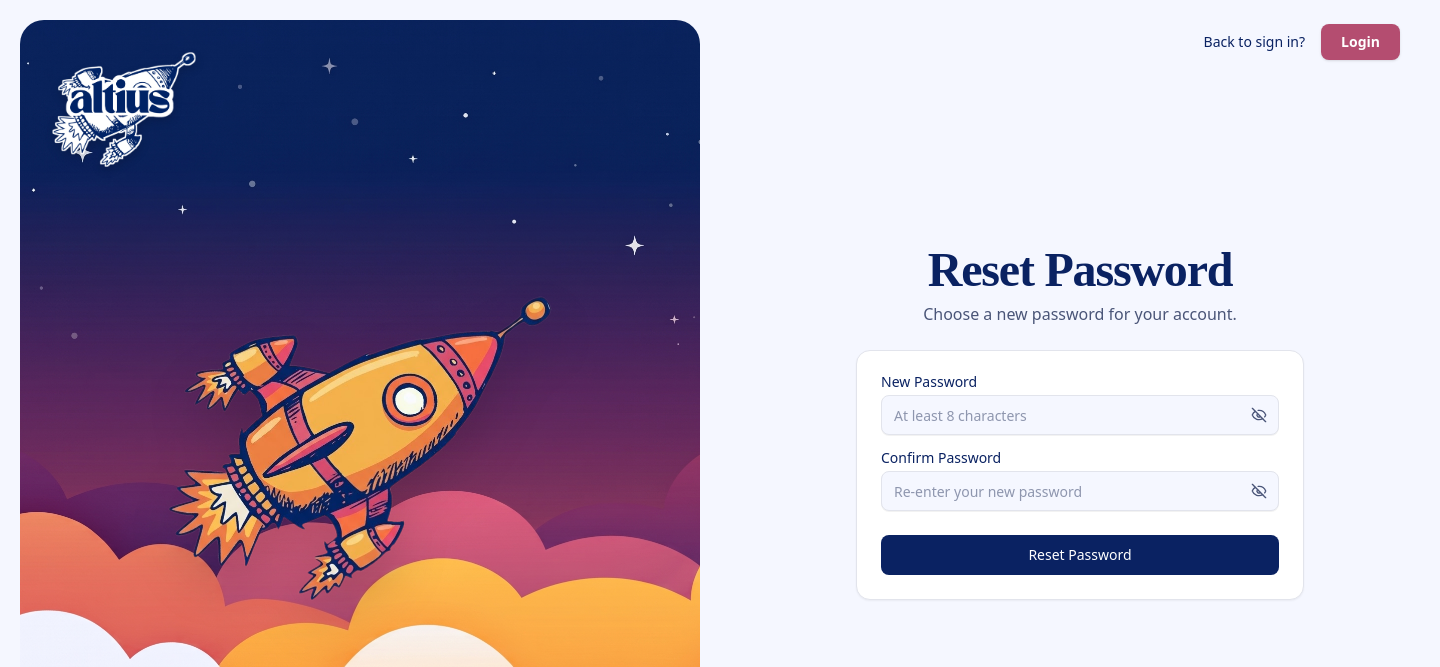
ForgotPasswordPage & ResetPasswordPage › validates password inputs, submits POST /auth/reset-password, and handles API errors
Type "short" into the password field labelled "New Password" at (1080, 415), box [881,395,1279,435]
Click the button "Reset Password" at (1080, 555), box [881,535,1279,575]
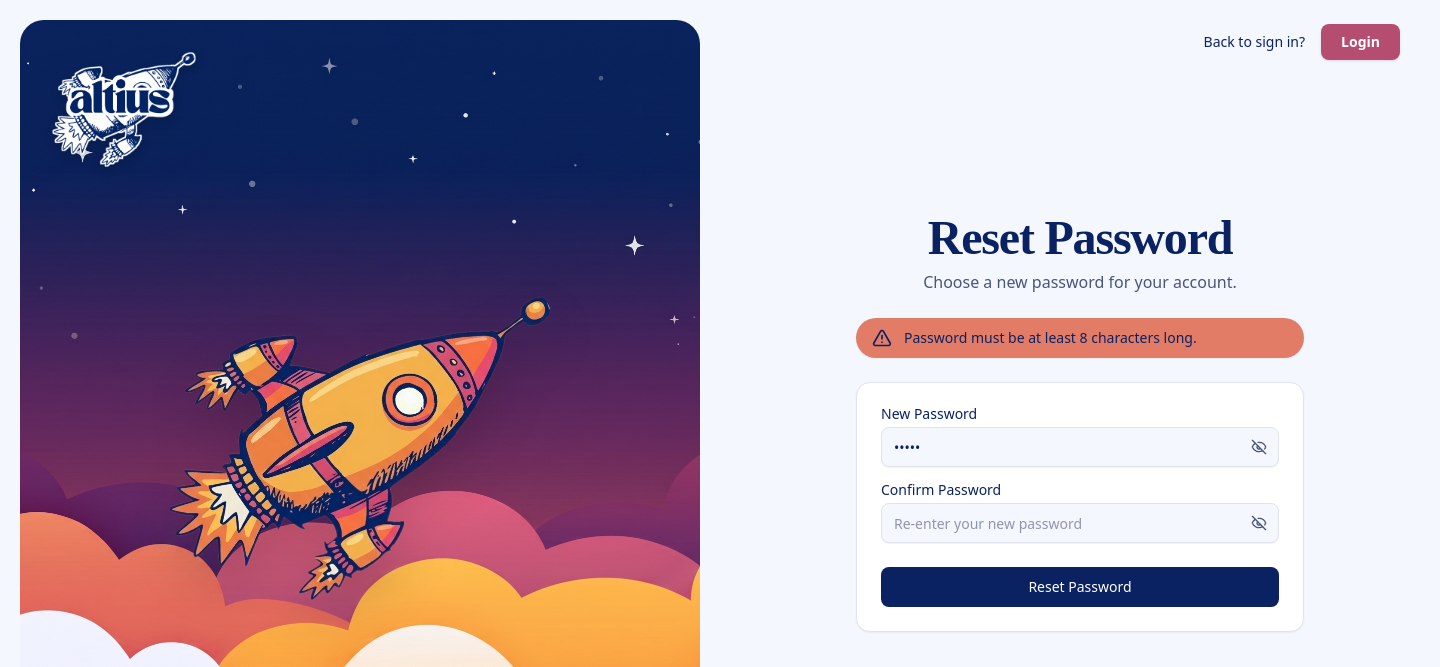
Now the text "Password must be at least 8 characters long." is shown, box [904,328,1197,348]
Type "NewPassword456!" into the password field labelled "New Password" at (1080, 447), box [881,427,1279,467]
Type "Mismatch456!" into the password field labelled "Confirm Password" at (1080, 523), box [881,503,1279,543]
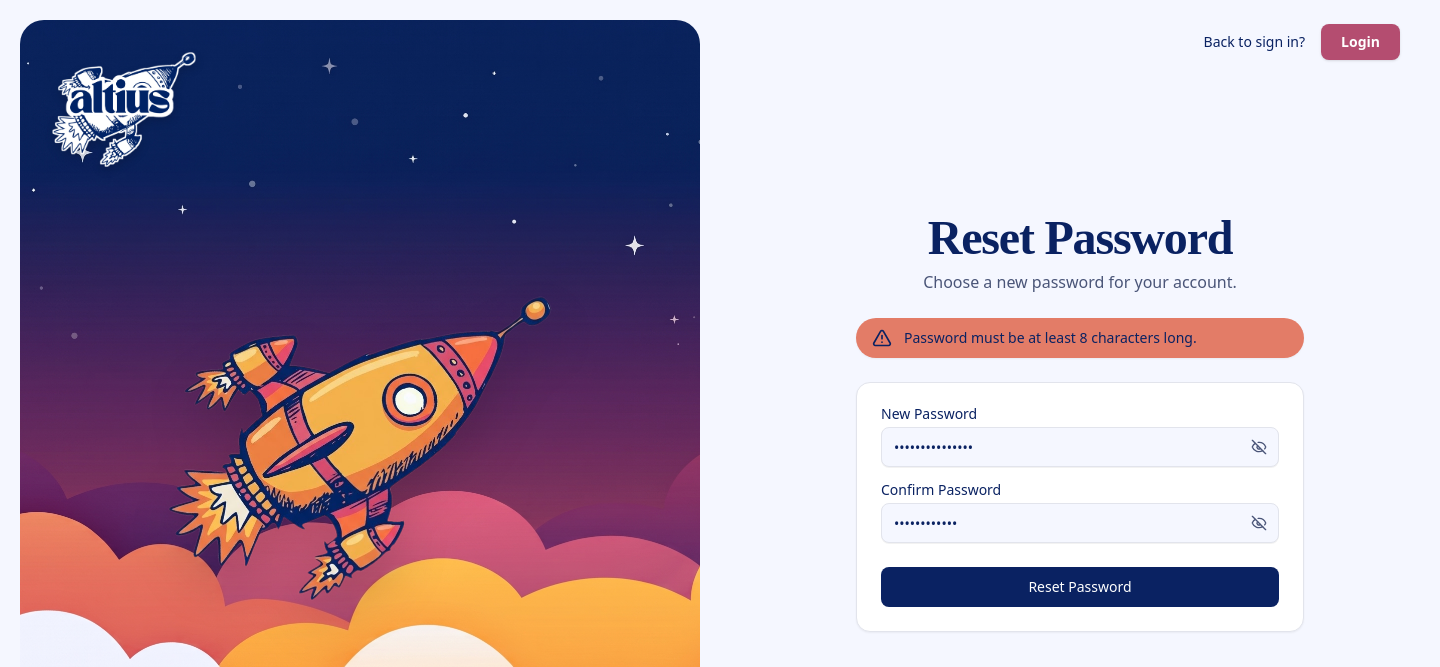
Click the button "Reset Password" at (1080, 587), box [881,567,1279,607]
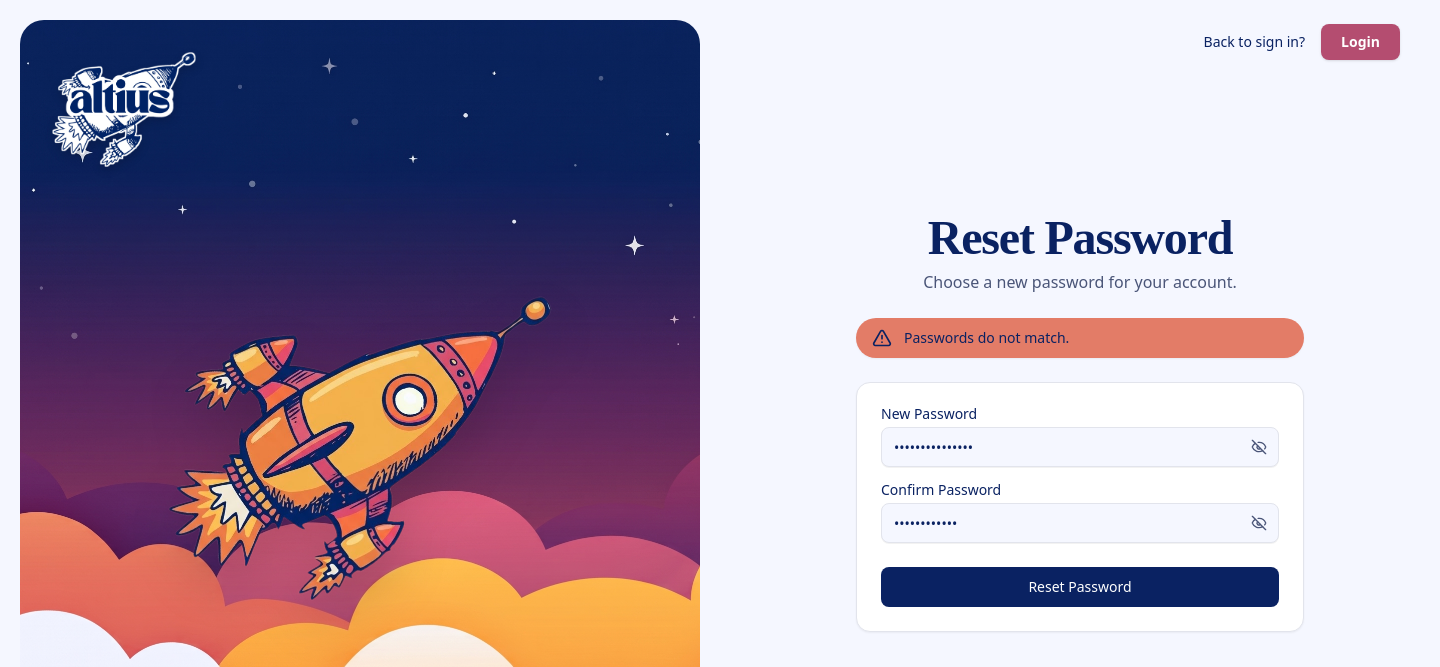
Now the text "Passwords do not match." is shown, box [904,328,1069,348]
Type "NewPassword456!" into the password field labelled "Confirm Password" at (1080, 523), box [881,503,1279,543]
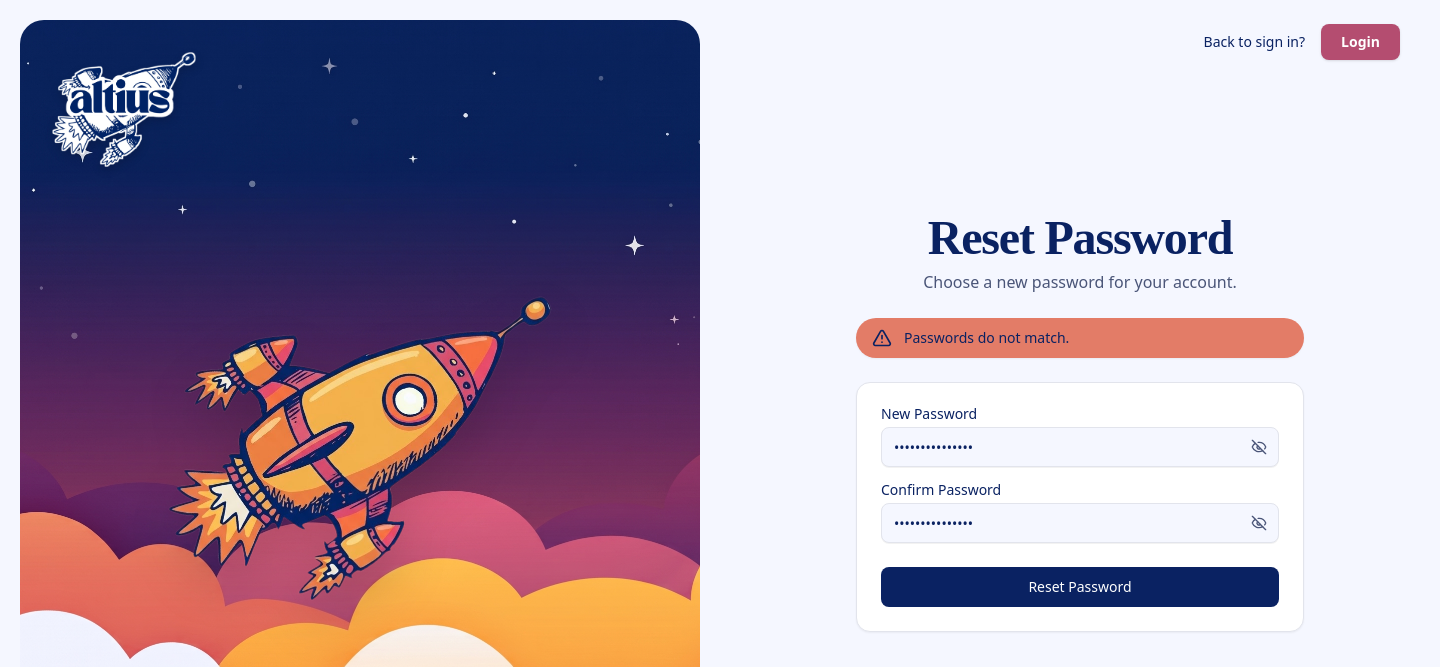
Click the button "Reset Password" at (1080, 587), box [881,567,1279,607]
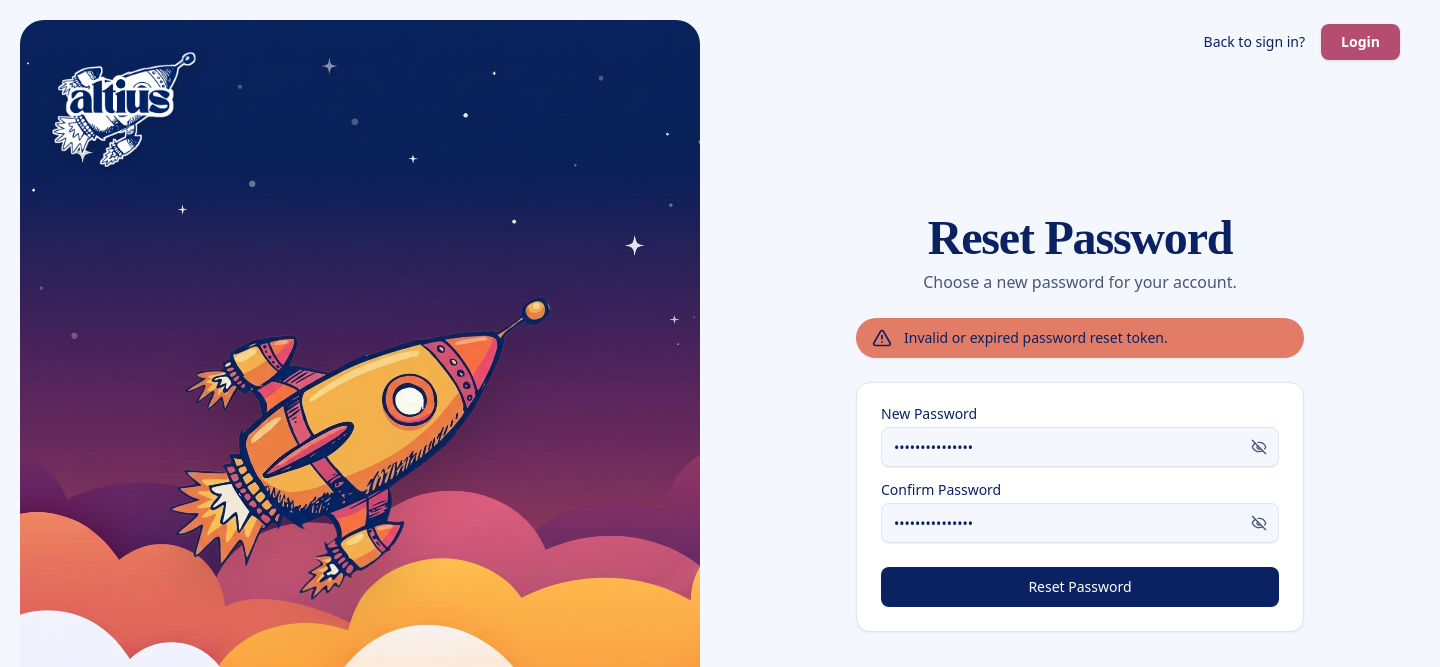
Now the text "Invalid or expired password reset token." is shown, box [904,328,1168,348]
Click the button "Reset Password" at (1080, 587), box [881,567,1279,607]
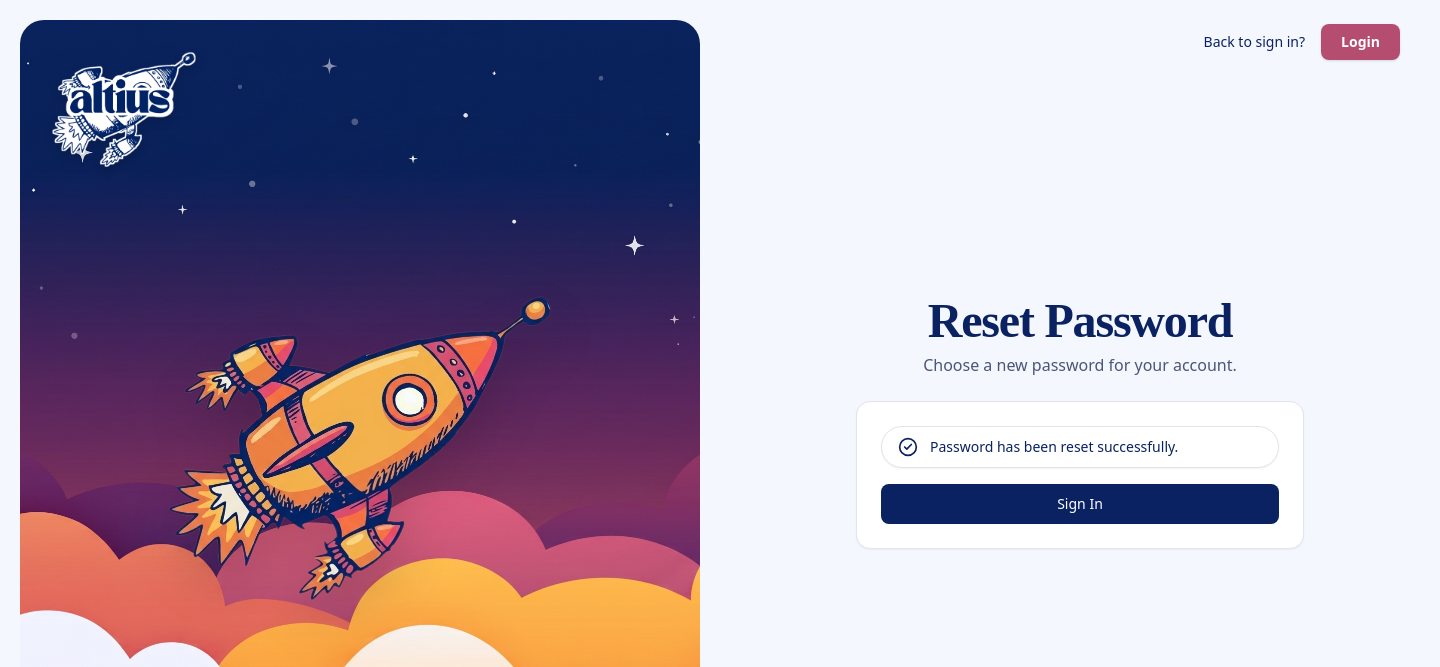
Now the text "Password has been reset successfully." is shown, box [930,437,1178,457]
Now the link "Sign In" is shown, box [881,484,1279,524]
